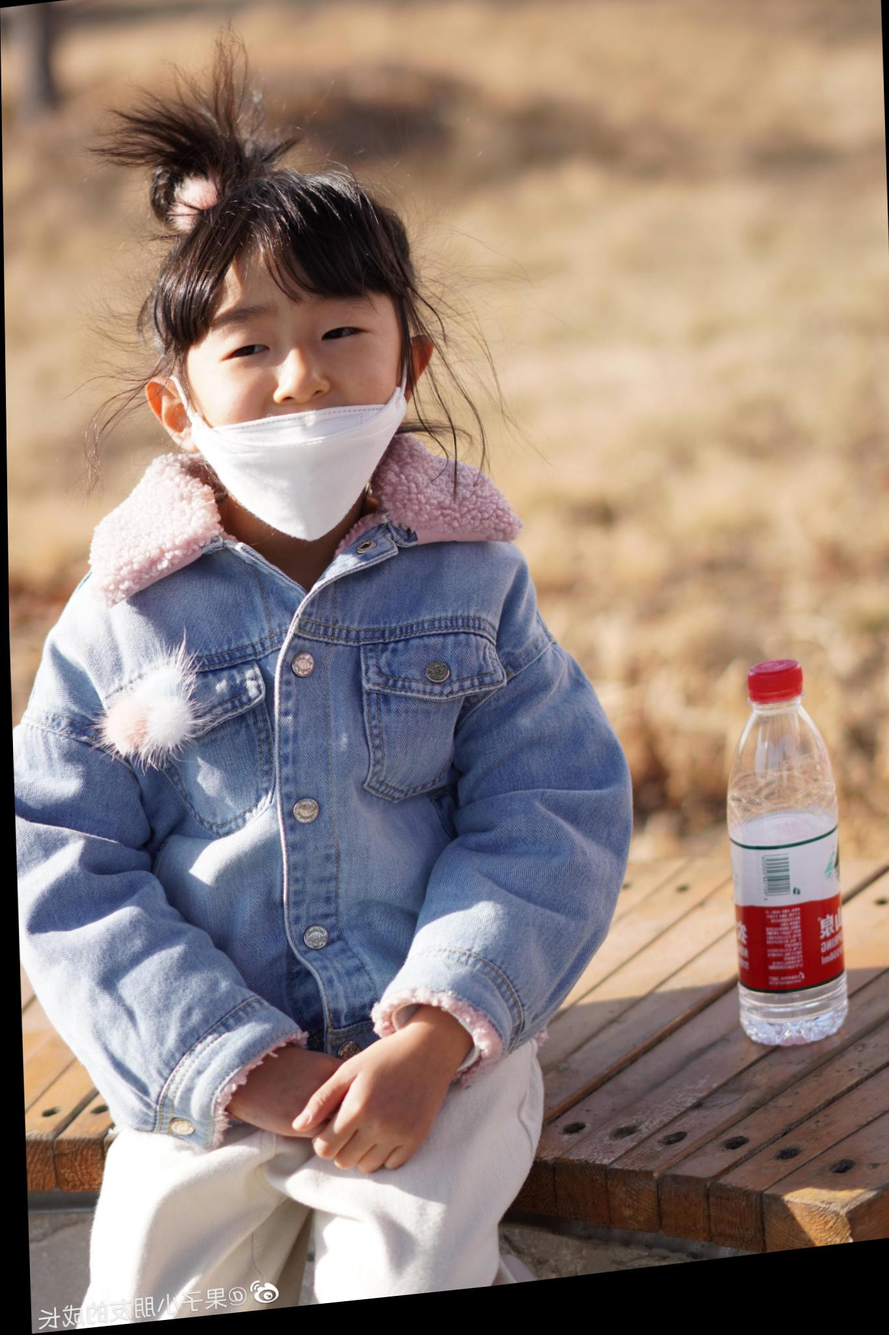WRONG: (189, 278, 401, 555)
